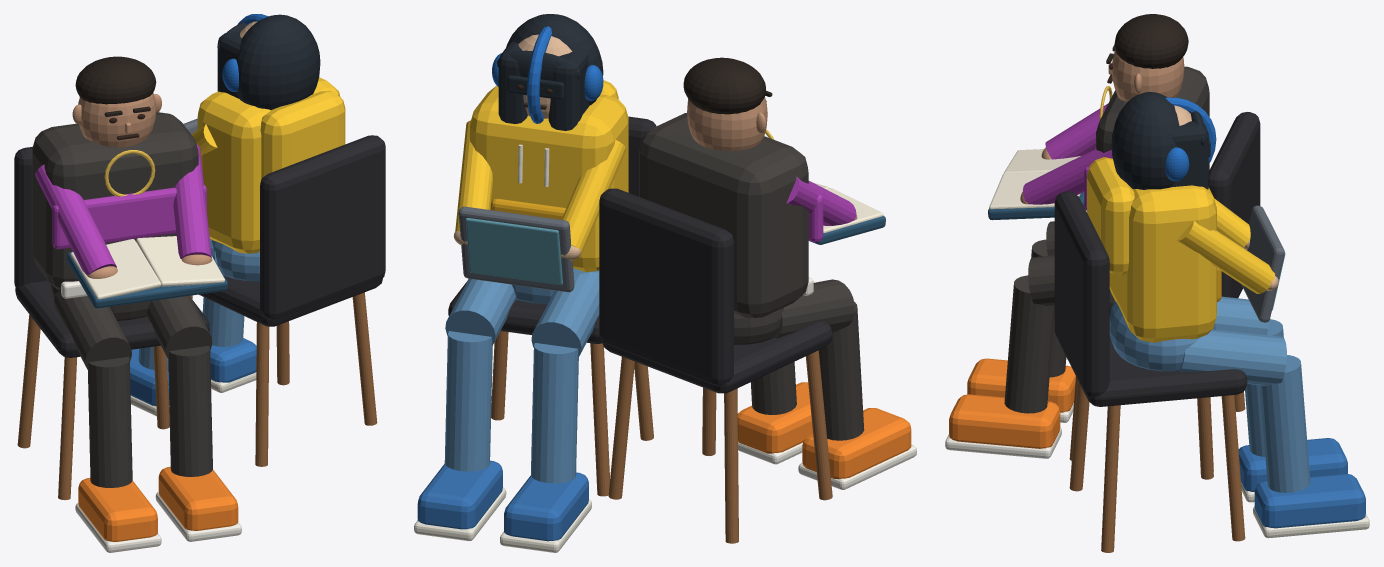
Rendered from students-pair-blockout-open.glb.
3 renders of one model, left to right at view 1: azimuth 30°, elevation 25°; view 2: azimuth 150°, elevation 25°; view 3: azimuth 270°, elevation 25°, orthographic. The views are drawn at different scales.
Visible parts, largest first — view 1: FEMALE_CHAIR_BACK, MALE_TORSO, FEMALE_TORSO, FEMALE_HAIR_BACK, MALE_R_SHIN, MALE_L_SHIN, FEMALE_HOOD, MALE_PURPLE_CHEST_BAND, MALE_R_SHOE, MALE_L_SHOE, MALE_L_THIGH, MALE_CHAIR_SEAT (+26 smaller); view 2: MALE_CHAIR_BACK, MALE_TORSO, FEMALE_TORSO, FEMALE_R_SHIN, FEMALE_L_SHIN, FEMALE_TABLET_SCREEN, MALE_L_SHIN, MALE_CHAIR_SEAT, FEMALE_L_SHOE, FEMALE_R_SHOE, MALE_L_SHOE, MALE_HAIR (+34 smaller); view 3: FEMALE_TORSO, FEMALE_CHAIR_BACK, FEMALE_HAIR_BACK, FEMALE_L_SHIN, MALE_R_SHIN, FEMALE_CHAIR_SEAT, FEMALE_L_SHOE, MALE_R_SHOE, MALE_CHAIR_BACK, FEMALE_L_THIGH, FEMALE_HOOD, MALE_HAIR (+26 smaller).
Boxes of the visible parts, box(x1,y1,x2,y2) form: FEMALE_CHAIR_BACK: box(260, 135, 385, 319); MALE_TORSO: box(32, 112, 198, 290); FEMALE_TORSO: box(197, 77, 340, 253); FEMALE_HAIR_BACK: box(235, 14, 320, 109); MALE_R_SHIN: box(168, 346, 212, 476); MALE_L_SHIN: box(88, 357, 132, 487); FEMALE_HOOD: box(260, 91, 345, 178); MALE_PURPLE_CHEST_BAND: box(52, 185, 206, 249); MALE_R_SHOE: box(158, 466, 238, 530); MALE_L_SHOE: box(78, 478, 157, 541); MALE_L_THIGH: box(54, 291, 131, 370); MALE_CHAIR_SEAT: box(15, 281, 209, 357); MALE_CHAIR_BACK: box(599, 188, 733, 385); MALE_TORSO: box(639, 113, 808, 317); FEMALE_TORSO: box(470, 86, 628, 272); FEMALE_R_SHIN: box(531, 343, 578, 483); FEMALE_L_SHIN: box(444, 331, 492, 471); FEMALE_TABLET_SCREEN: box(465, 218, 562, 284); MALE_L_SHIN: box(819, 301, 864, 440); MALE_CHAIR_SEAT: box(602, 321, 832, 393); FEMALE_L_SHOE: box(417, 460, 502, 529); FEMALE_R_SHOE: box(504, 472, 588, 541); MALE_L_SHOE: box(802, 408, 911, 479); MALE_HAIR: box(683, 57, 765, 114); FEMALE_TORSO: box(1109, 185, 1216, 342); FEMALE_CHAIR_BACK: box(1054, 191, 1109, 397); FEMALE_HAIR_BACK: box(1111, 92, 1179, 189); FEMALE_L_SHIN: box(1259, 355, 1310, 492); MALE_R_SHIN: box(1004, 275, 1054, 413); FEMALE_CHAIR_SEAT: box(1060, 335, 1247, 406); FEMALE_L_SHOE: box(1254, 473, 1365, 528); MALE_R_SHOE: box(949, 394, 1060, 448); MALE_CHAIR_BACK: box(1208, 112, 1260, 298); FEMALE_L_THIGH: box(1179, 329, 1286, 385); FEMALE_HOOD: box(1087, 157, 1134, 275); MALE_HAIR: box(1114, 14, 1188, 68).
Bounding box in the file's own units: 1.65 × 1.94 × 1.76.
